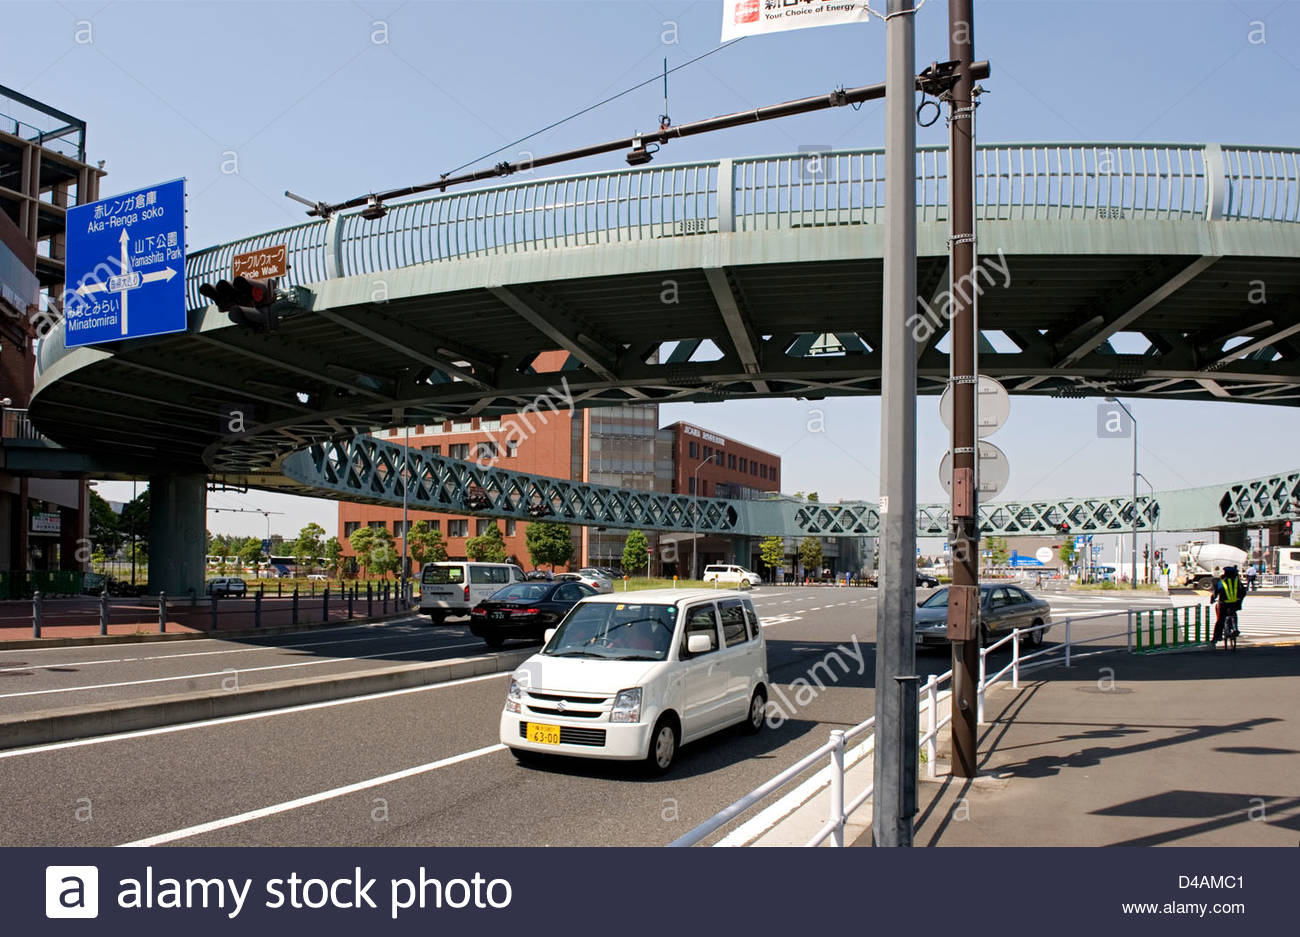bridge: (30, 138, 1300, 523)
